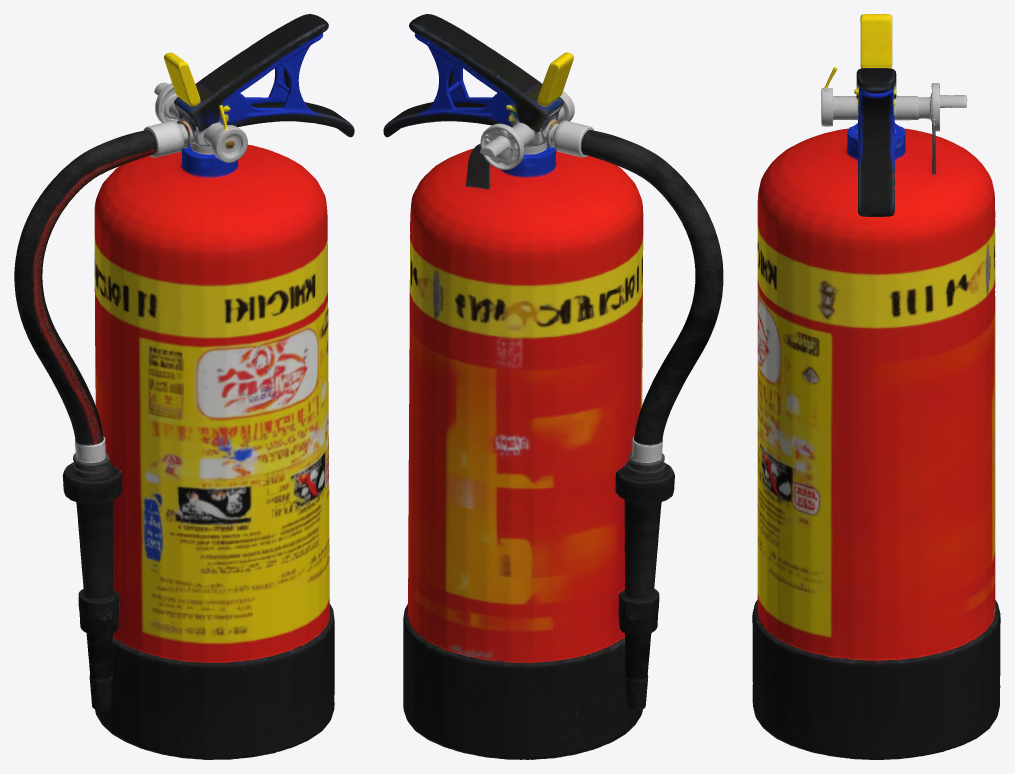
File: sample_2026-11-21T122420.119.glb
The picture shows the model from 3 angles, left to right: view 1: azimuth 30°, elevation 25°; view 2: azimuth 150°, elevation 25°; view 3: azimuth 270°, elevation 25°; orthographic projection. The views are drawn at different scales.
Parts seen in each view (by area): view 1: world; view 2: world; view 3: world.
Boxes of the visible parts, <box> form: world: <box>14,14,354,759</box>; world: <box>383,14,723,759</box>; world: <box>752,14,1000,759</box>.
Size of the model in its own units: 0.5186 by 0.9999 by 0.3303.
1 material, 1 textured.
